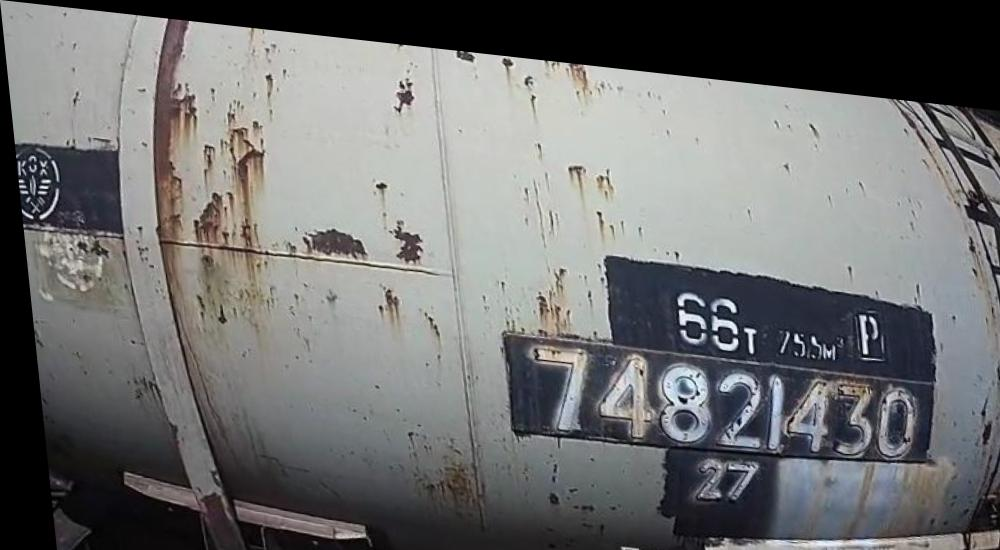Wagon-number: (512, 329, 914, 450)
